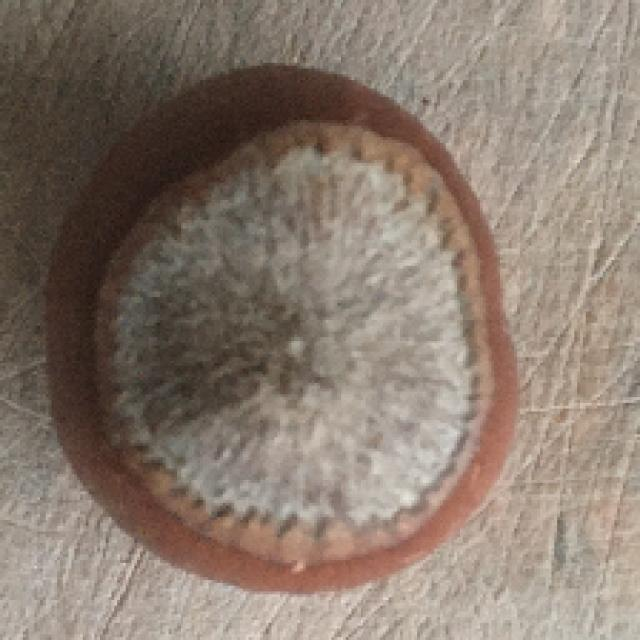QualityHazelnut: (38, 56, 521, 593)
